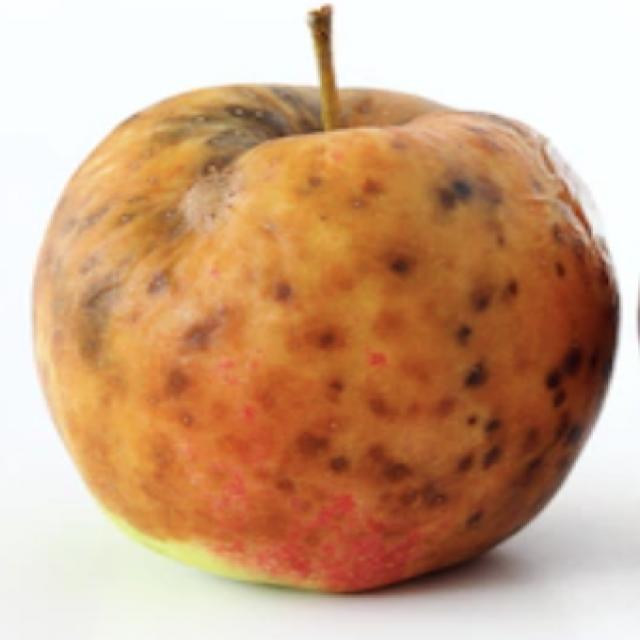Rotten: (54, 97, 624, 598)
